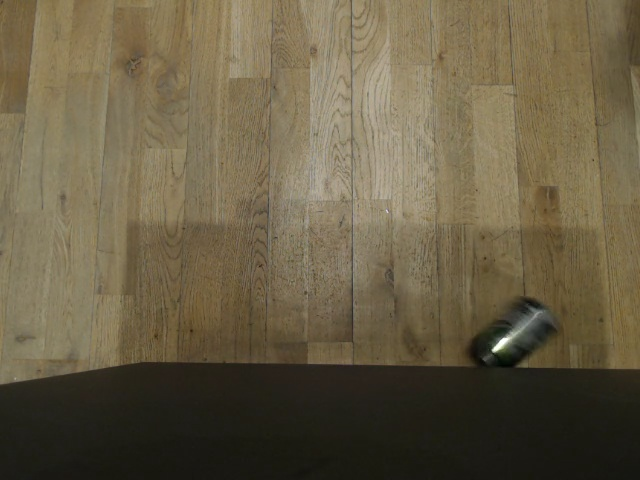beer: (467, 286, 562, 368)
